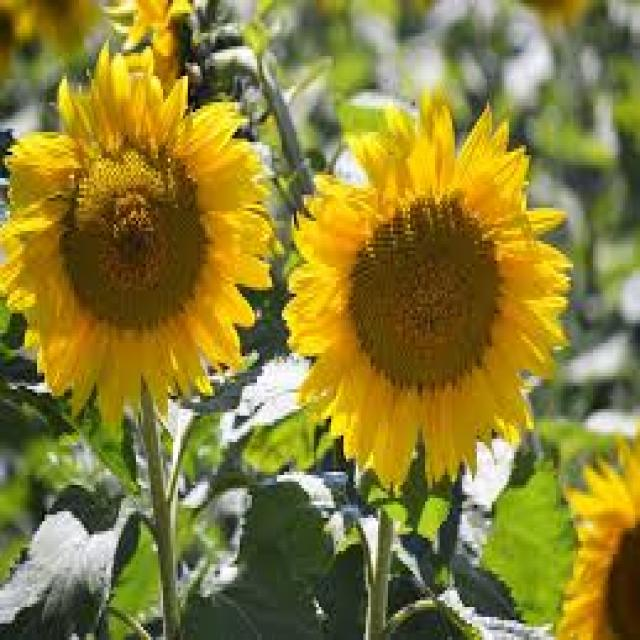sunflower: (268, 94, 587, 500), (4, 46, 273, 412)
